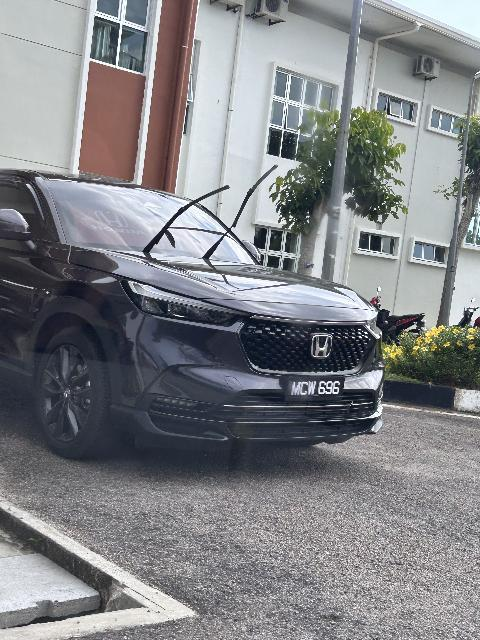License_Plate: (284, 376, 349, 407)
MCW696: (284, 376, 349, 407)
car: (1, 160, 393, 466)
